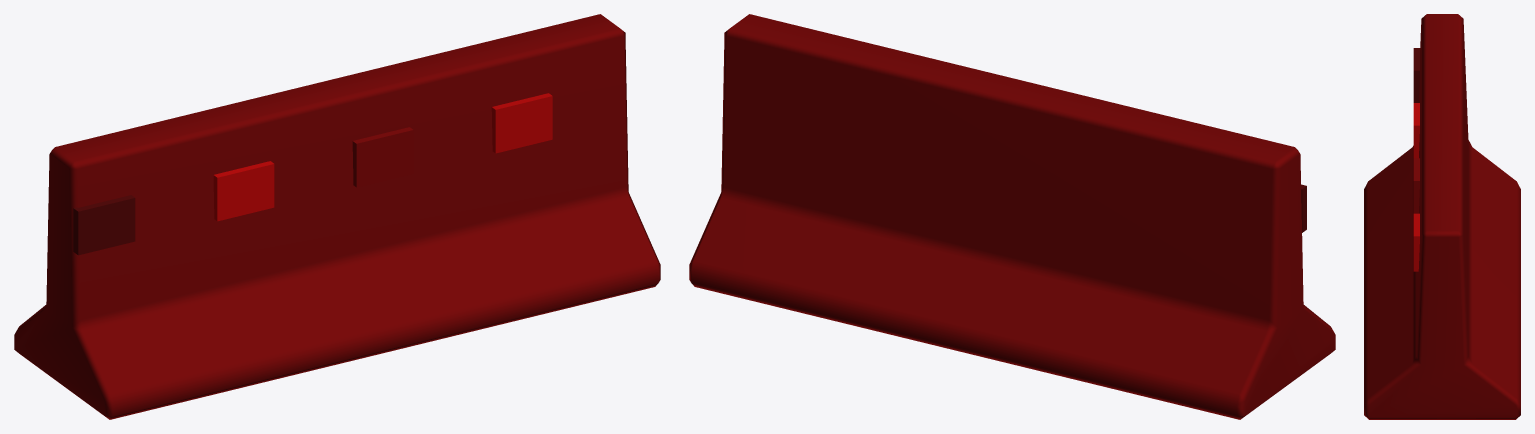
The model's file is barrier.glb.
3 renders of one model, left to right at view 1: azimuth 30°, elevation 25°; view 2: azimuth 150°, elevation 25°; view 3: azimuth 270°, elevation 25°, orthographic. The views are drawn at different scales.
Parts seen in each view (by area): view 1: barrier; view 2: barrier; view 3: barrier.
Boxes of the visible parts, x1,y1,x2,y2 form: barrier: (14, 14, 660, 419); barrier: (689, 14, 1335, 419); barrier: (1364, 14, 1520, 419).
Size of the model in its own units: 2 by 0.8 by 0.6.
